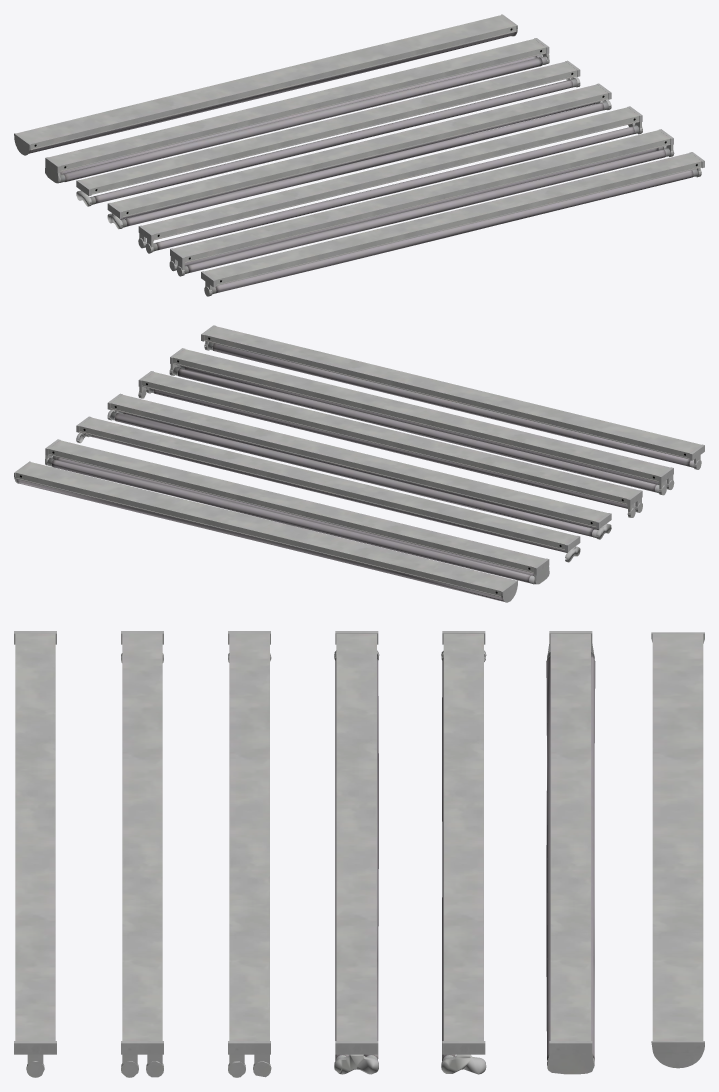
File: mounted-fluorescent-lights.glb
3 renders of one model, top to bottom at view 1: azimuth 30°, elevation 25°; view 2: azimuth 150°, elevation 25°; view 3: azimuth 270°, elevation 25°, orthographic. The views are drawn at different scales.
Visible parts, largest first — view 1: mounted_fluorescent_lights_f, mounted_fluorescent_lights_b, mounted_fluorescent_lights_d, mounted_fluorescent_lights_e, mounted_fluorescent_lights_c, mounted_fluorescent_lights_a, mounted_fluorescent_lights_g; view 2: mounted_fluorescent_lights_b, mounted_fluorescent_lights_f, mounted_fluorescent_lights_d, mounted_fluorescent_lights_a, mounted_fluorescent_lights_g, mounted_fluorescent_lights_c, mounted_fluorescent_lights_e; view 3: mounted_fluorescent_lights_g, mounted_fluorescent_lights_f, mounted_fluorescent_lights_d, mounted_fluorescent_lights_e, mounted_fluorescent_lights_b, mounted_fluorescent_lights_c, mounted_fluorescent_lights_a.
Part boxes in pixels (x1,y1,x2,y2): mounted_fluorescent_lights_f: (45, 38, 549, 183); mounted_fluorescent_lights_b: (169, 129, 674, 276); mounted_fluorescent_lights_d: (107, 83, 611, 229); mounted_fluorescent_lights_e: (76, 60, 580, 206); mounted_fluorescent_lights_c: (138, 106, 642, 253); mounted_fluorescent_lights_a: (201, 152, 704, 296); mounted_fluorescent_lights_g: (14, 14, 517, 155); mounted_fluorescent_lights_b: (169, 348, 674, 495); mounted_fluorescent_lights_f: (45, 439, 549, 584); mounted_fluorescent_lights_d: (107, 393, 611, 539); mounted_fluorescent_lights_a: (201, 325, 704, 469); mounted_fluorescent_lights_g: (14, 461, 517, 602); mounted_fluorescent_lights_c: (138, 371, 642, 517); mounted_fluorescent_lights_e: (76, 416, 580, 562); mounted_fluorescent_lights_g: (651, 632, 704, 1068); mounted_fluorescent_lights_f: (546, 631, 595, 1074); mounted_fluorescent_lights_d: (334, 631, 379, 1074); mounted_fluorescent_lights_e: (441, 631, 486, 1074); mounted_fluorescent_lights_b: (121, 631, 163, 1077); mounted_fluorescent_lights_c: (228, 631, 271, 1077); mounted_fluorescent_lights_a: (14, 631, 56, 1077).
Bounding box in the file's own units: 0.9122 × 0.0353 × 0.6454.
2 materials, 2 textured.
